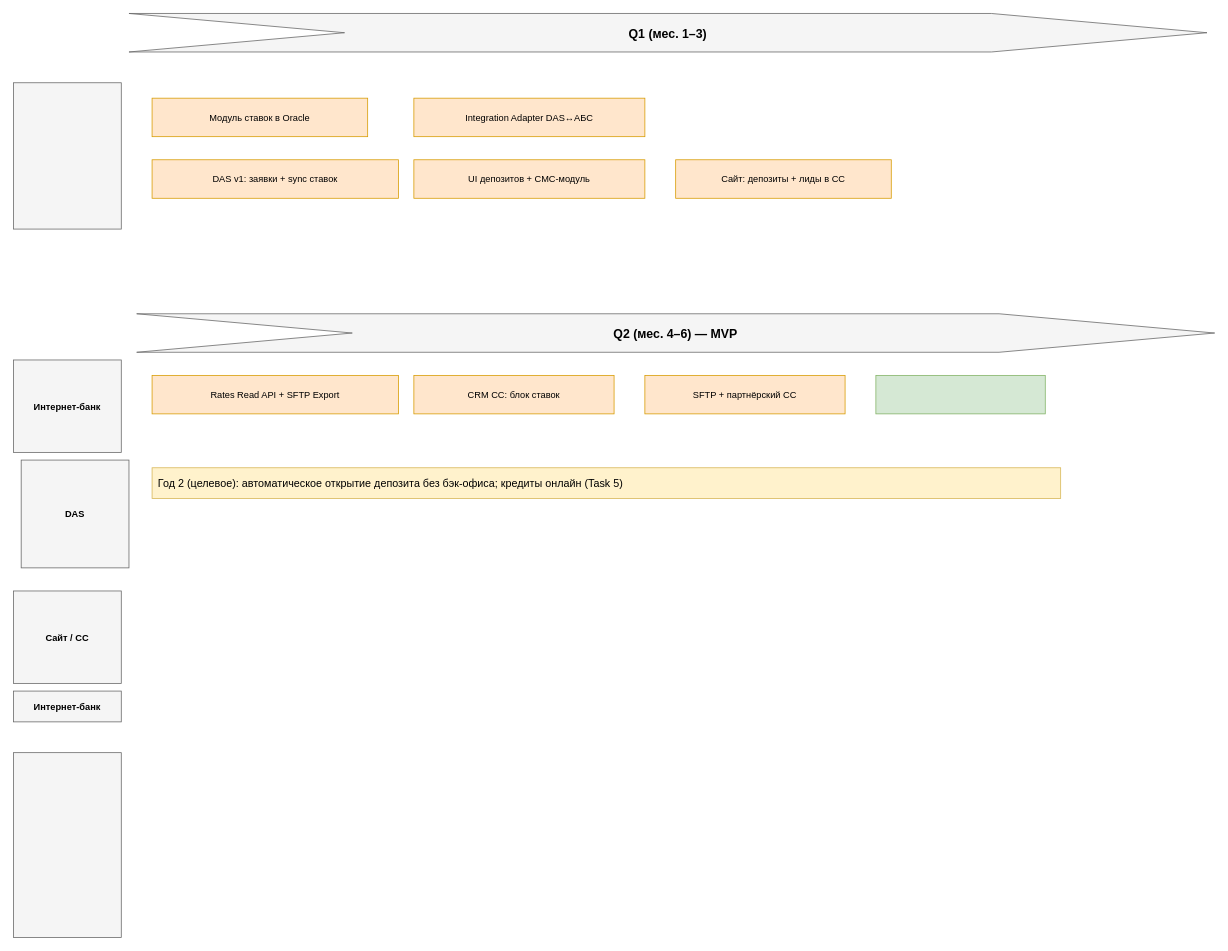
Some shapes in this 1228 by 951 pixel diagram are drawn without their labels. The box of each missing label's shape, as (x1, y1, x2, y2) in pixels:
E2E тест MVP, go-live: (875, 375, 1045, 414)
АБС: (13, 82, 121, 229)
Инфра: (13, 752, 121, 937)
